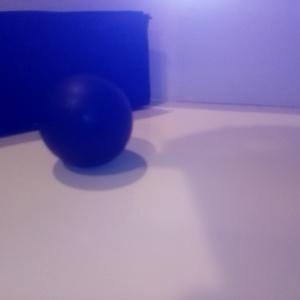dead_ball: (38, 74, 133, 167)
